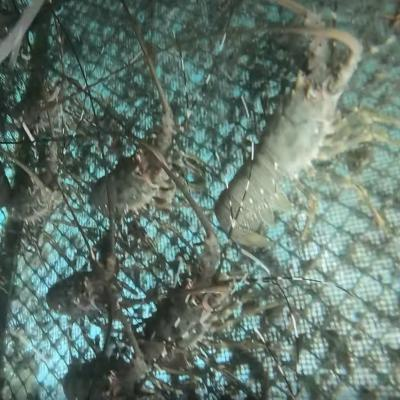lobster: (214, 45, 355, 234), (88, 130, 180, 223), (141, 272, 233, 360), (42, 247, 121, 318), (63, 347, 131, 397), (8, 162, 60, 226)
